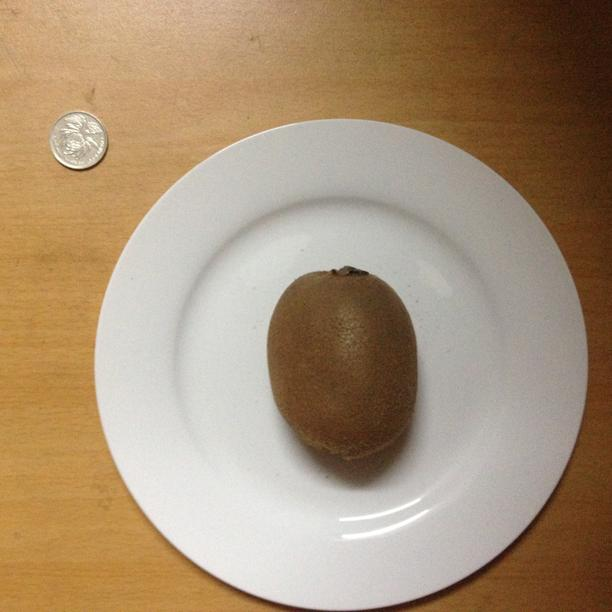coin: (46, 110, 107, 168)
qiwi: (272, 271, 416, 458)
